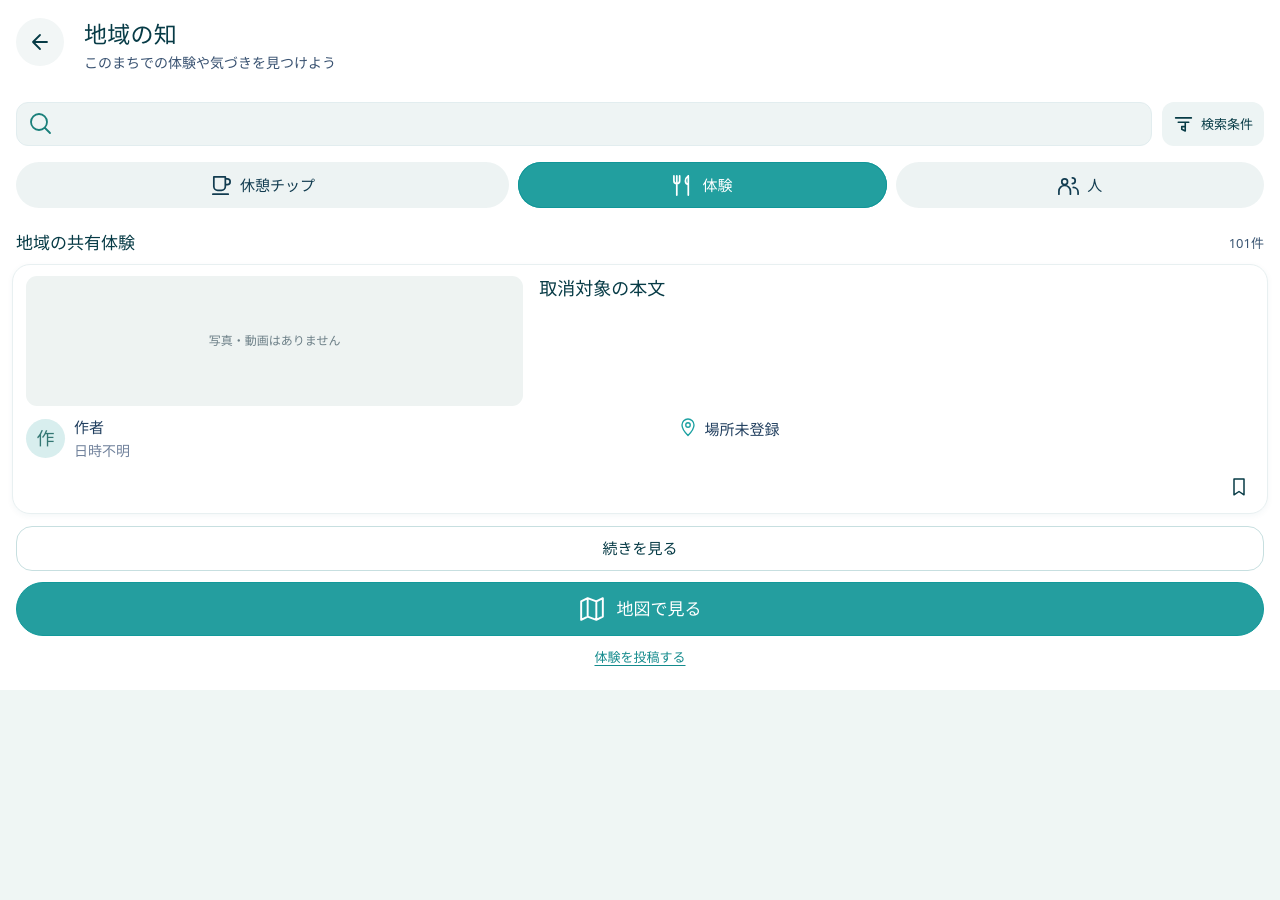
Test case: list re-entry invalidates pages and re-reads first page after public records change
Click the button with class "knowledge-secondary" at [640, 549], box [16,526,1264,571]
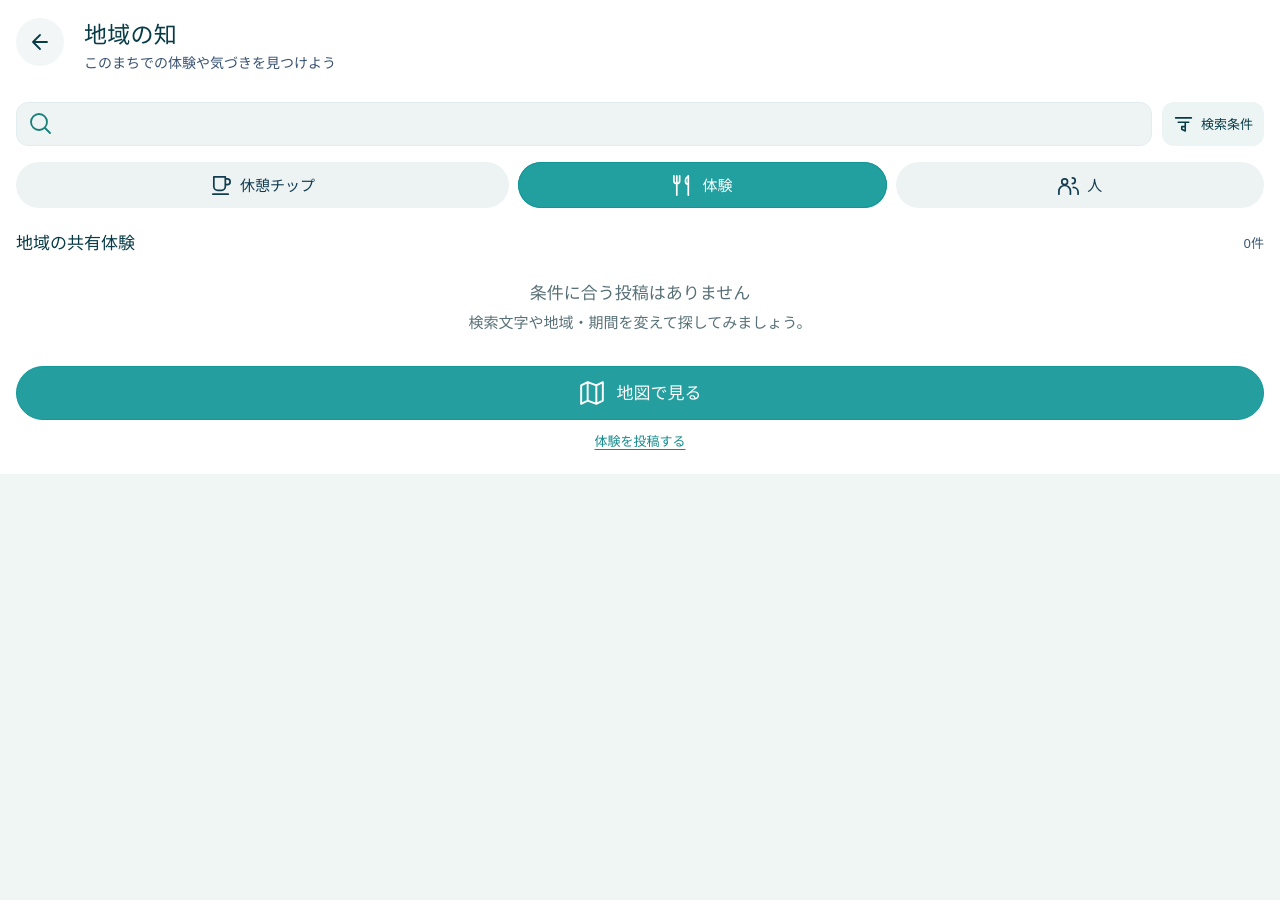
Now the text "取消対象の本文" is gone
